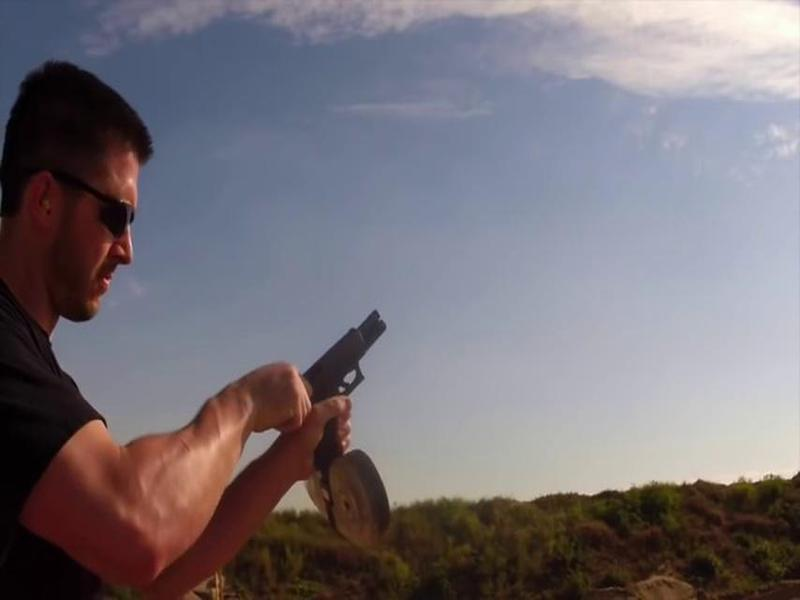Pistola: (262, 310, 423, 484)
